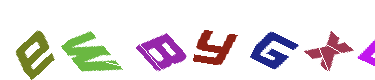B: (149, 0, 229, 80)
E: (0, 0, 80, 80)
G: (173, 0, 253, 80)
L: (282, 0, 362, 80)
W: (47, 0, 127, 80)
X: (232, 0, 312, 80)
Y: (166, 0, 246, 80)
